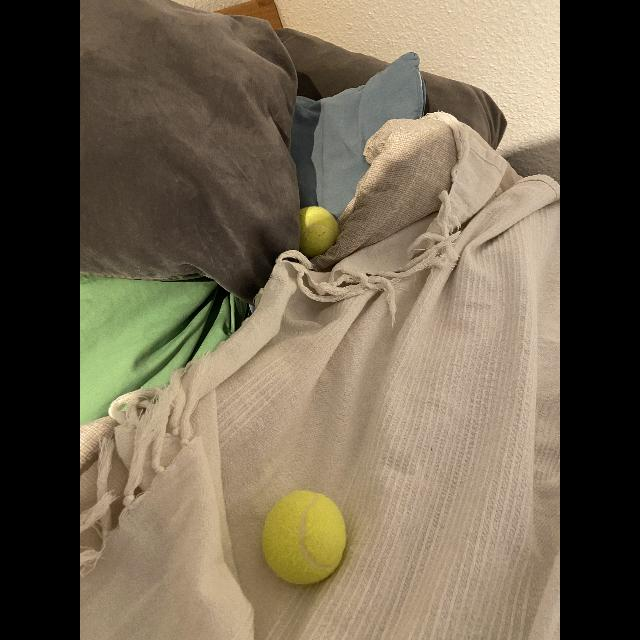Tennisball: (262, 490, 346, 585), (300, 207, 339, 257)
